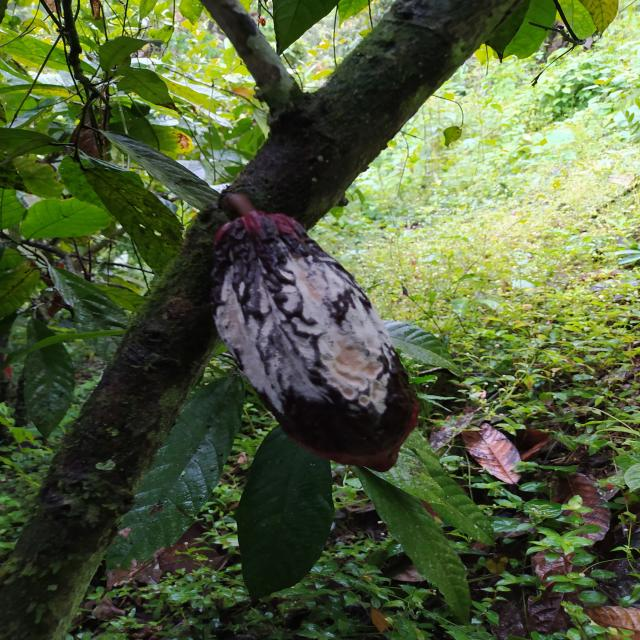Monilia: (208, 211, 423, 474)
